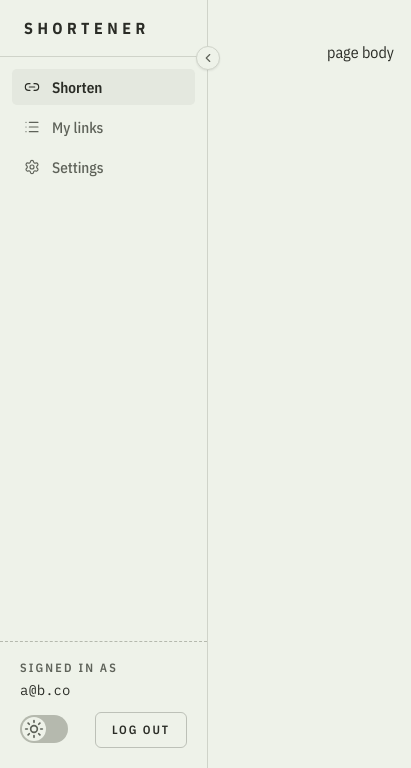
Test: AppShell › collapses the sidebar to icons and expands it again
Click the button named "Collapse sidebar": x=208, y=58 [196,46,220,70]
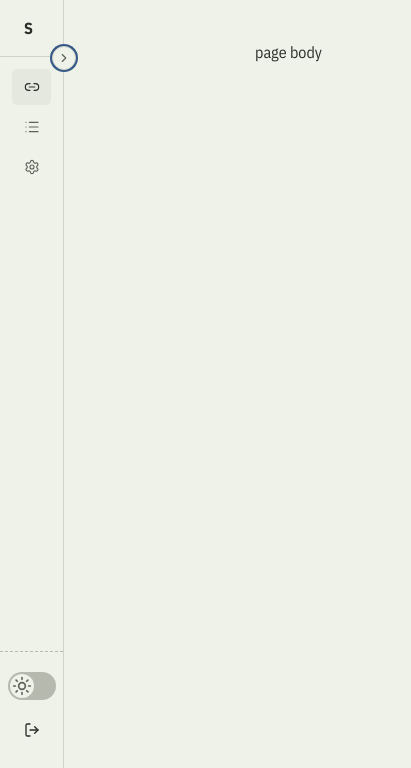
Check: the button named "Expand sidebar" is collapsed
Click the button named "Expand sidebar": x=64, y=58 [52,46,76,70]
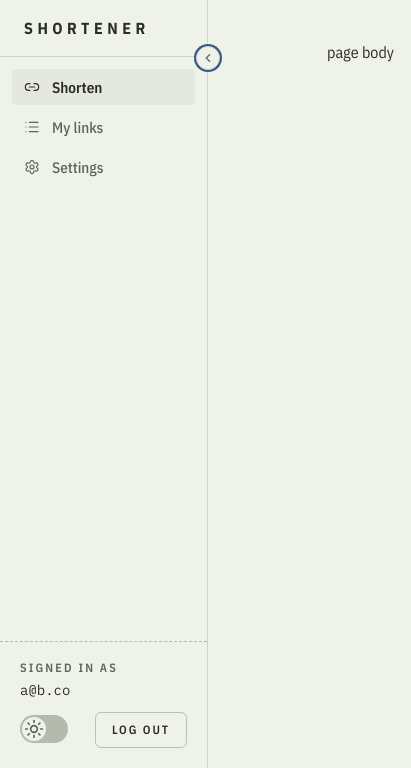
Check: the button named "Collapse sidebar" is shown, box [196,46,220,70]
